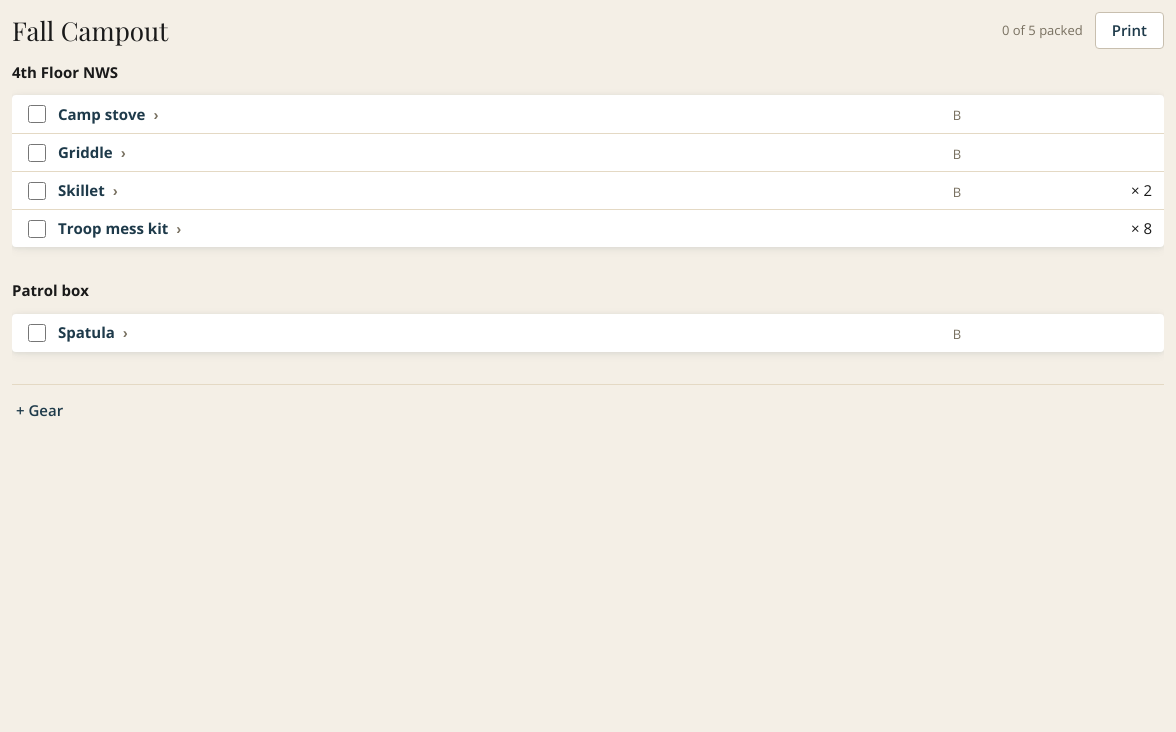
Gear tab › AddGear_PicksFromTheMasterList_AndSavesTheMenusExtras
The image size is (1176, 732).
Click the button "+ Gear" at [40, 410], box [12, 388, 67, 432]
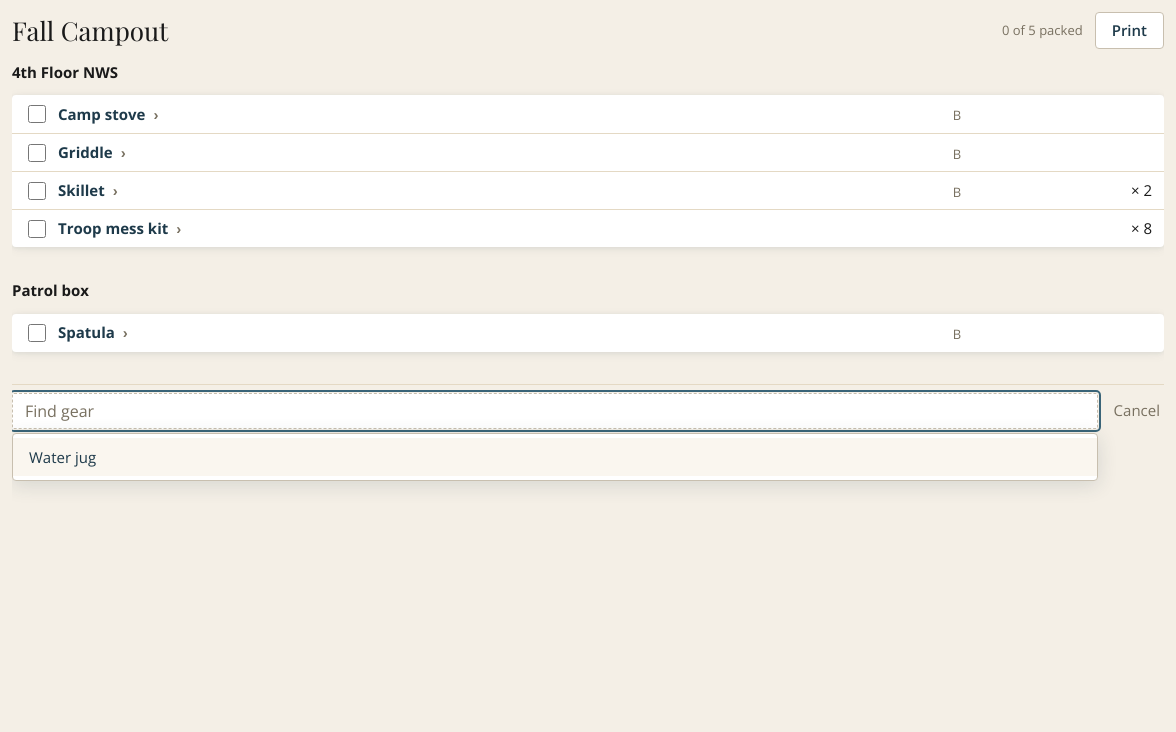
Type keys "wat{Enter}"
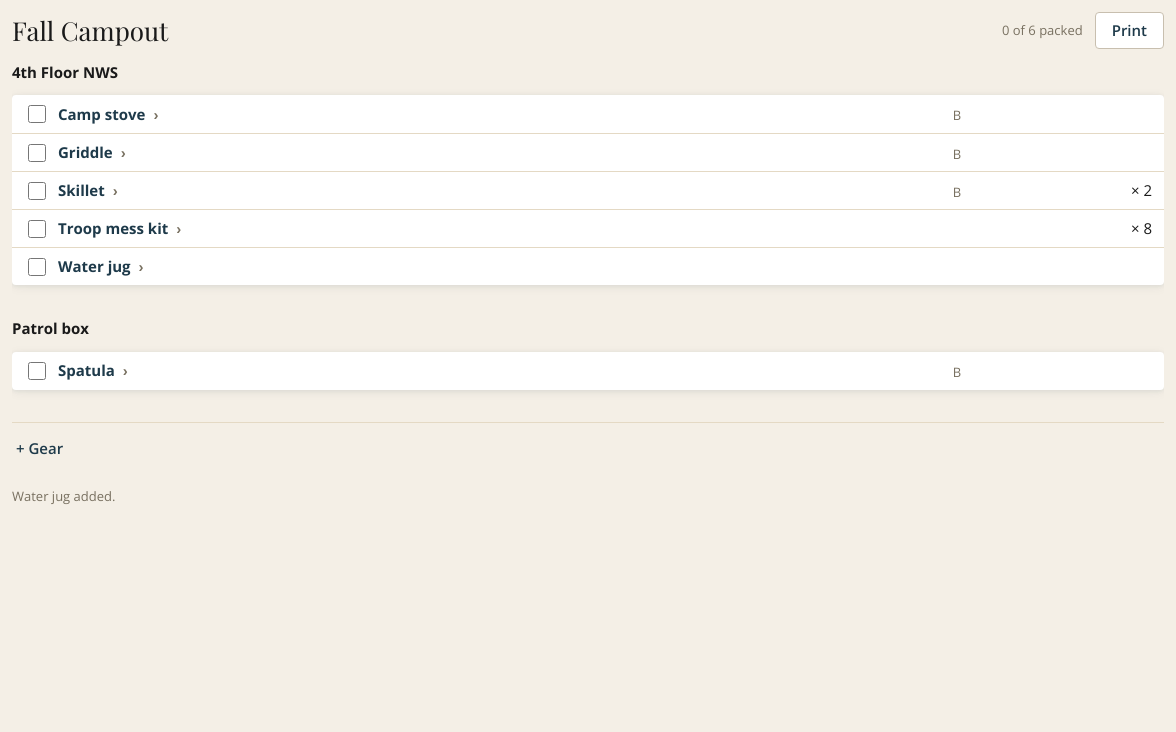
Result: the list item "Water jug ›" is shown at [12, 247, 1164, 285]
